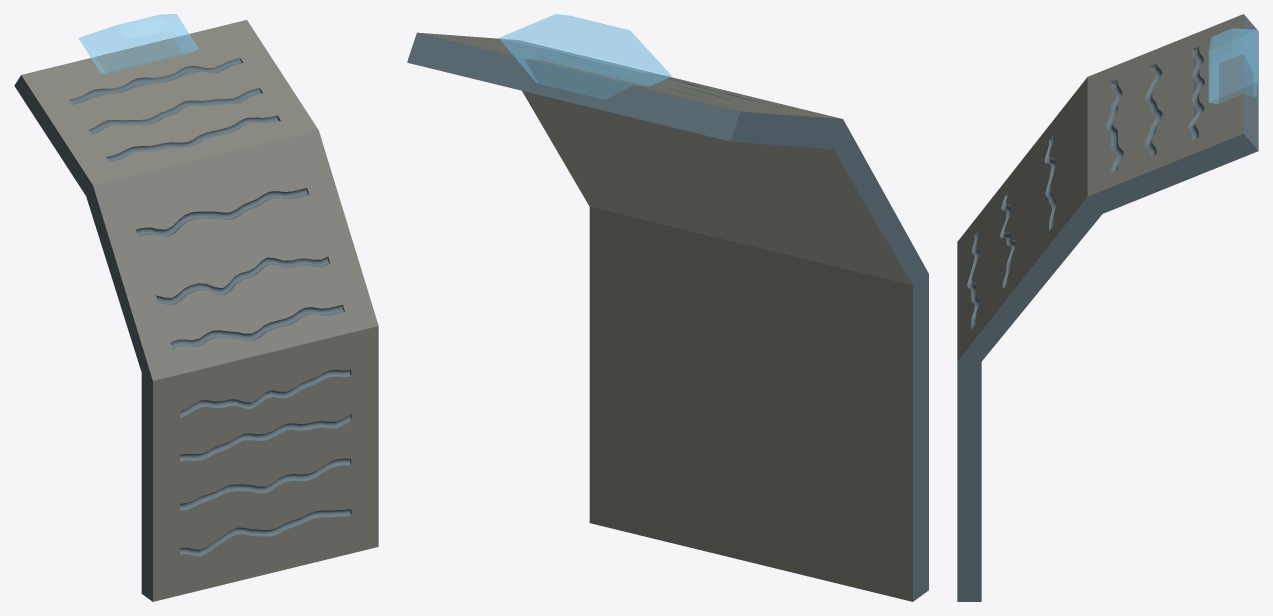
The model's file is Artefact3.fbx.
3 renders of one model, left to right at view 1: azimuth 30°, elevation 25°; view 2: azimuth 150°, elevation 25°; view 3: azimuth 270°, elevation 25°, orthographic. The views are drawn at different scales.
Parts seen in each view (by area): view 1: pCube8, pCube7; view 2: pCube8, pCube7; view 3: pCube8, pCube7.
Boxes of the visible parts, x1,y1,x2,y2 form: pCube8: [14, 20, 378, 601]; pCube7: [78, 14, 198, 73]; pCube8: [407, 32, 928, 601]; pCube7: [499, 14, 671, 99]; pCube8: [957, 14, 1258, 601]; pCube7: [1208, 28, 1257, 103].
Size of the model in its own units: 5.22 by 10.21 by 5.55.
